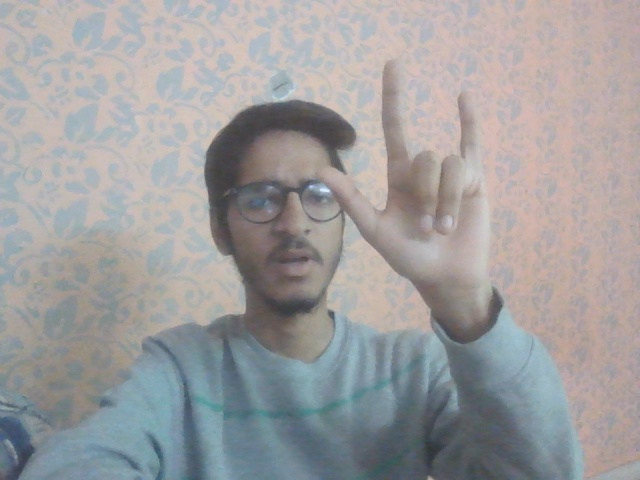ILoveYou: (316, 54, 497, 293)
